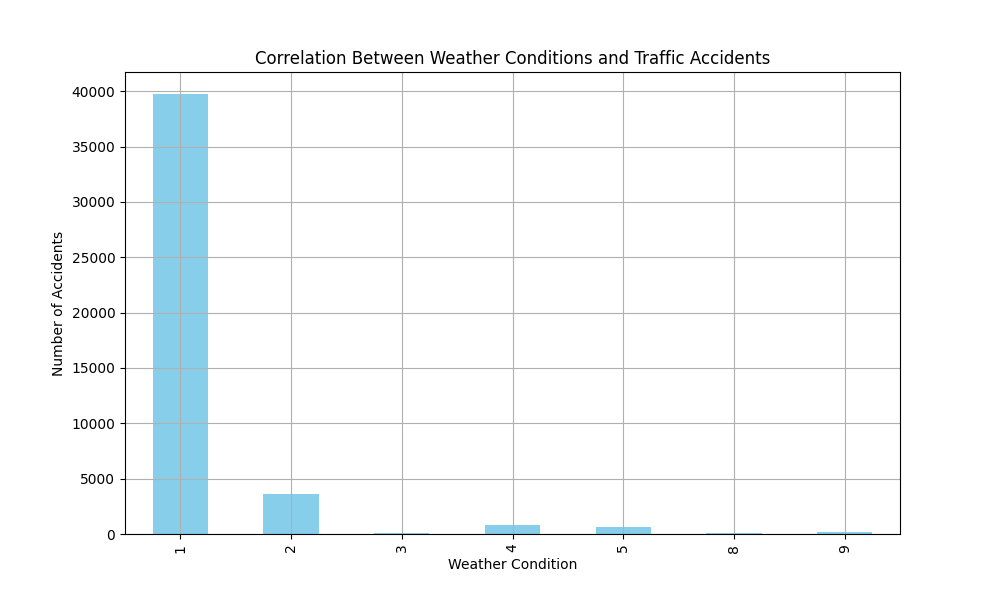

What the dashboard file says about the page in this screenshot:
{"tool":"tableau","page":{"name":"Dashboard 1","canvas":[1000,1000],"units":"permille","ordinal":0},"visuals":[{"type":"worksheet","title":"Sheet 2","mark":"Bar","rows":["count"],"cols":["date","date"],"box":[1.8,480.7,991,499.4]}]}

Visuals, with their boxes on the dashboard's canvas, which has no fixed pixel size, in thousandths of its width and height (x1, y1, x2, y2). These are canvas units, not pixel positions in the 1000x600 screenshot, which may show the page scaled, cropped or inside an application window:
"Sheet 2" worksheet (Bar marks): 2,481,993,980
